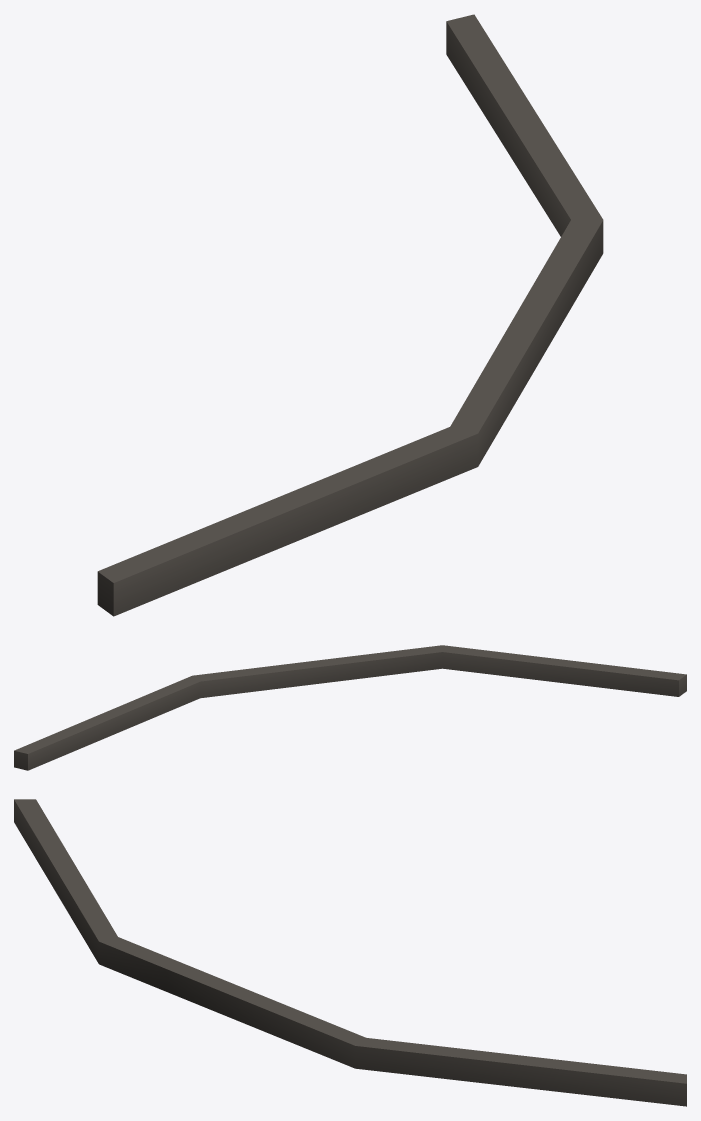
Rendered from Env_Block_CurveA_col.fbx.
The picture shows the model from 3 angles, top to bottom: view 1: azimuth 30°, elevation 25°; view 2: azimuth 150°, elevation 25°; view 3: azimuth 270°, elevation 25°; orthographic projection. The views are drawn at different scales.
Visible parts, largest first — view 1: Env_Block_CurveA_col; view 2: Env_Block_CurveA_col; view 3: Env_Block_CurveA_col.
Boxes of the visible parts, <box> form: Env_Block_CurveA_col: <box>97,14,603,616</box>; Env_Block_CurveA_col: <box>14,645,686,770</box>; Env_Block_CurveA_col: <box>14,799,686,1106</box>.
Bounding box in the file's own units: 3050 × 114 × 3050.
